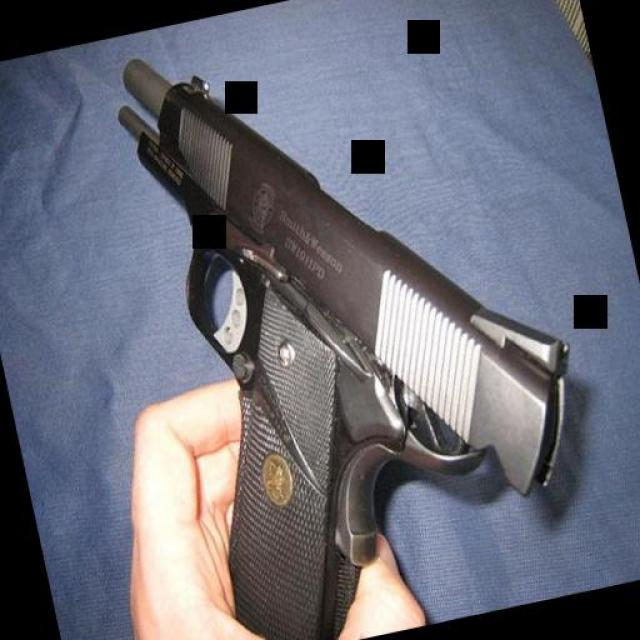gun: (100, 0, 614, 640)
